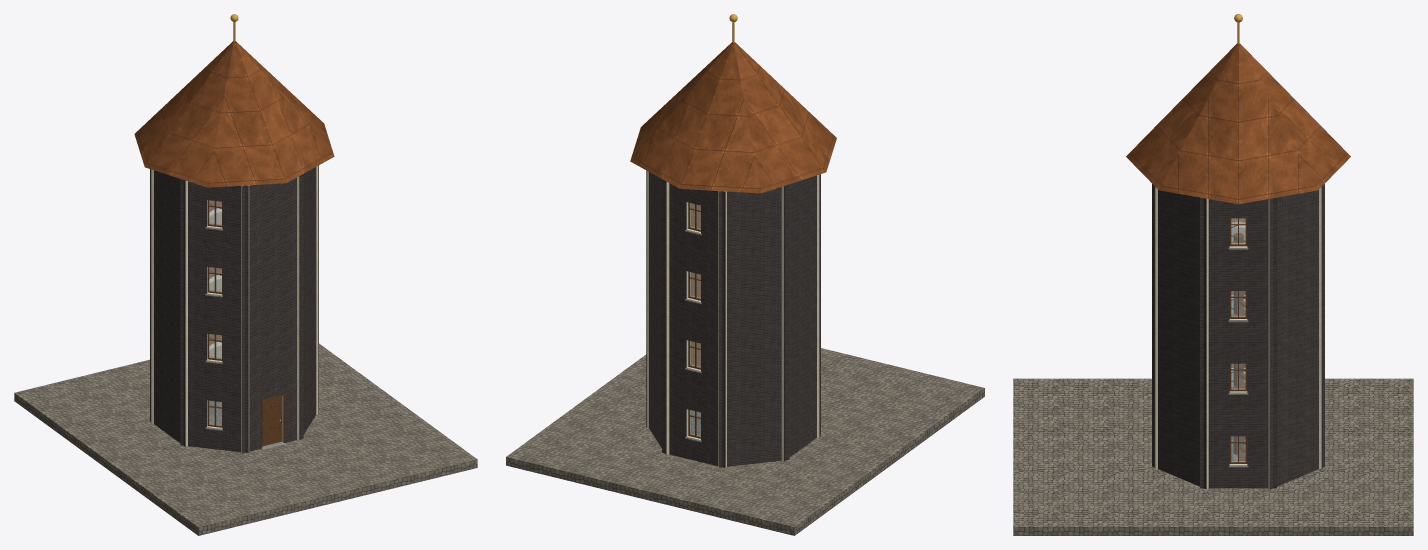
File: b_alchemy_tower.gltf
3 views of the same model, side by side, from view 1: azimuth 30°, elevation 25°; view 2: azimuth 150°, elevation 25°; view 3: azimuth 270°, elevation 25° (orthographic). The views are drawn at different scales.
Visible parts, largest first — view 1: S_alchemy_tower, D_alchemy_tower_F1_5_0_Door0; view 2: S_alchemy_tower; view 3: S_alchemy_tower.
Boxes of the visible parts, box(x1,y1,x2,y2) form: S_alchemy_tower: box(14, 14, 477, 535); D_alchemy_tower_F1_5_0_Door0: box(262, 396, 281, 446); S_alchemy_tower: box(506, 14, 984, 535); S_alchemy_tower: box(1013, 14, 1413, 535).
Bounding box in the file's own units: 14 × 19.73 × 16.
14 materials, 9 textured.
